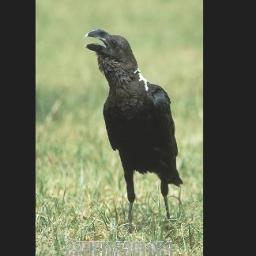Crow: (81, 24, 186, 239)
